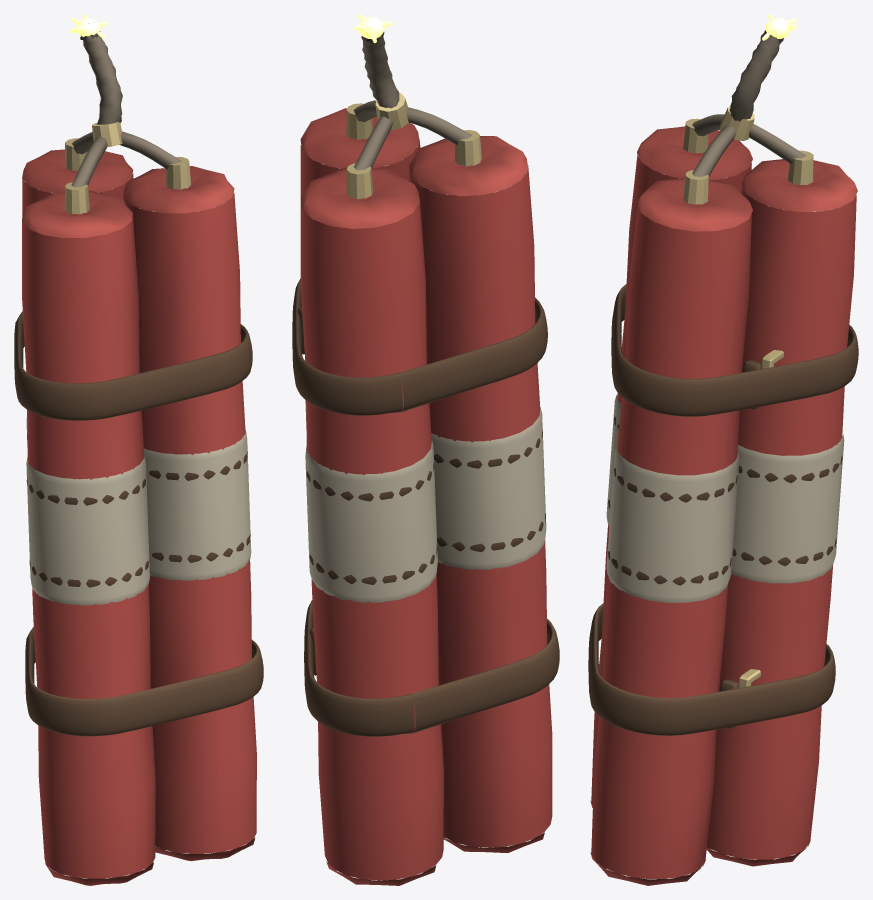
The model's file is dynamite.glb.
3 renders of one model, left to right at view 1: azimuth 30°, elevation 25°; view 2: azimuth 150°, elevation 25°; view 3: azimuth 270°, elevation 25°, orthographic. The views are drawn at different scales.
Visible parts, largest first — view 1: Body, FuseTip; view 2: Body, FuseTip; view 3: Body, FuseTip.
Boxes of the visible parts, x1,y1,x2,y2 form: Body: (14,22,263,885); FuseTip: (70,14,107,38); Body: (292,32,559,885); FuseTip: (354,14,392,43); Body: (588,30,858,885); FuseTip: (762,14,797,40).
Bounding box in the file's own units: 0.0744 × 0.2603 × 0.0766.
